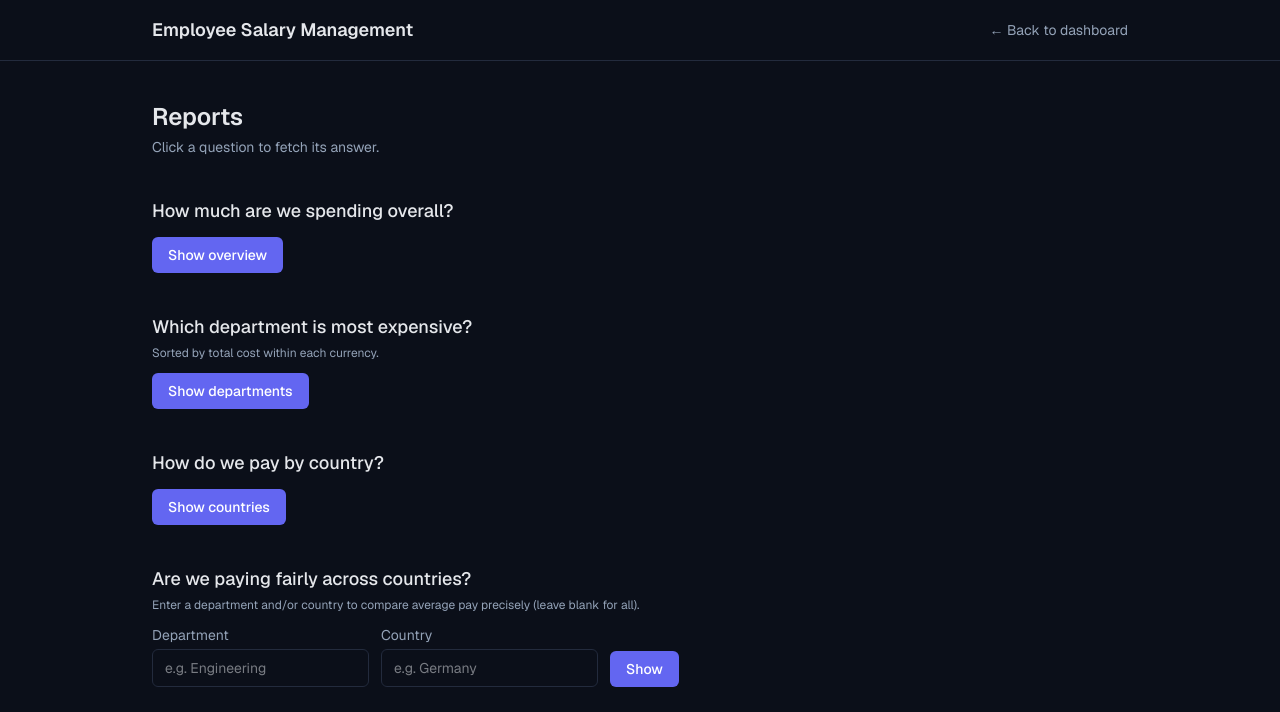
Test case: ReportsPage › fetches the overview only when its button is clicked
Click the button "Show overview" at (218, 255), box x1=152 y1=237 x2=283 y2=273
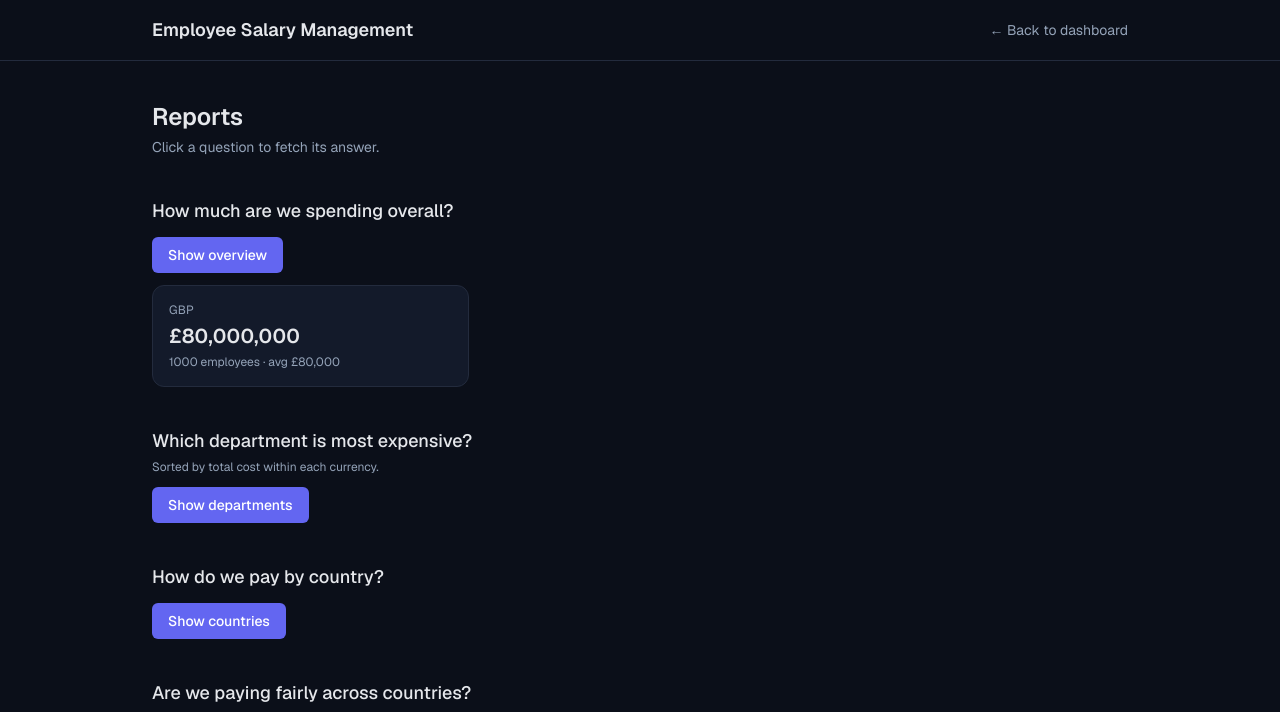
Expected: the text "£80,000,000" is shown, x1=169 y1=323 x2=300 y2=349
